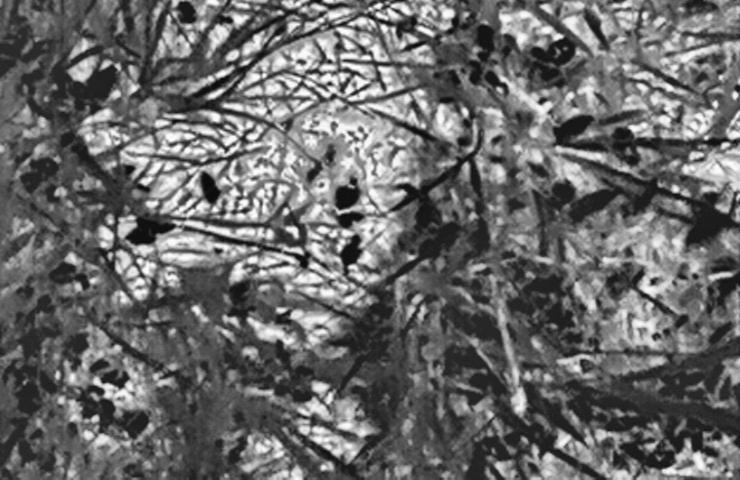landmines: (82, 8, 412, 334)
